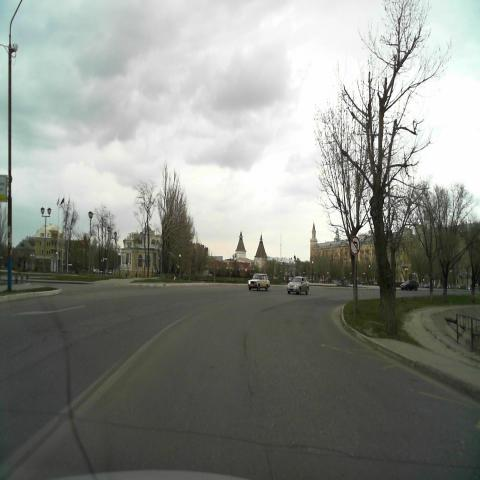3_18_2: (350, 235, 360, 256)
